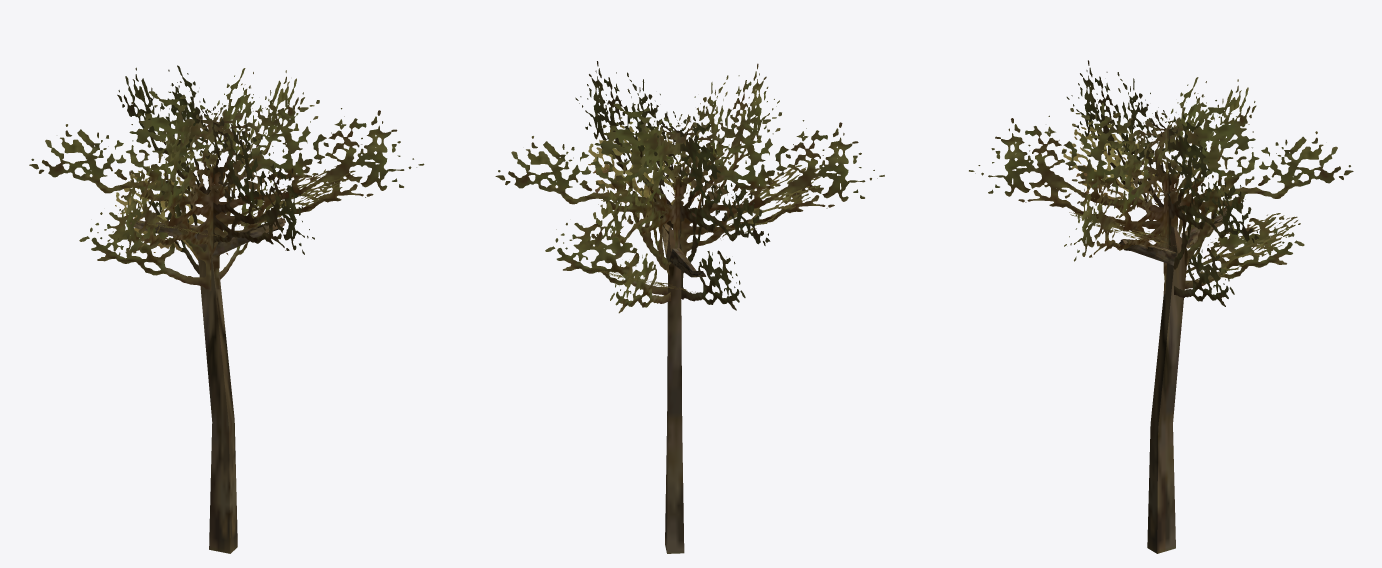
File: M4_Tree1.glb
The picture shows the model from 3 angles, left to right: view 1: azimuth 30°, elevation 25°; view 2: azimuth 150°, elevation 25°; view 3: azimuth 270°, elevation 25°; orthographic projection. The views are drawn at different scales.
Visible parts, largest first — view 1: M4_TREE1; view 2: M4_TREE1; view 3: M4_TREE1.
Boxes of the visible parts, bbox=[...] form: M4_TREE1: bbox=[29, 65, 424, 553]; M4_TREE1: bbox=[495, 61, 884, 553]; M4_TREE1: bbox=[969, 60, 1353, 553].
Size of the model in its own units: 3.27 by 4 by 3.47.
Materials: 1 (1 with a texture image).
